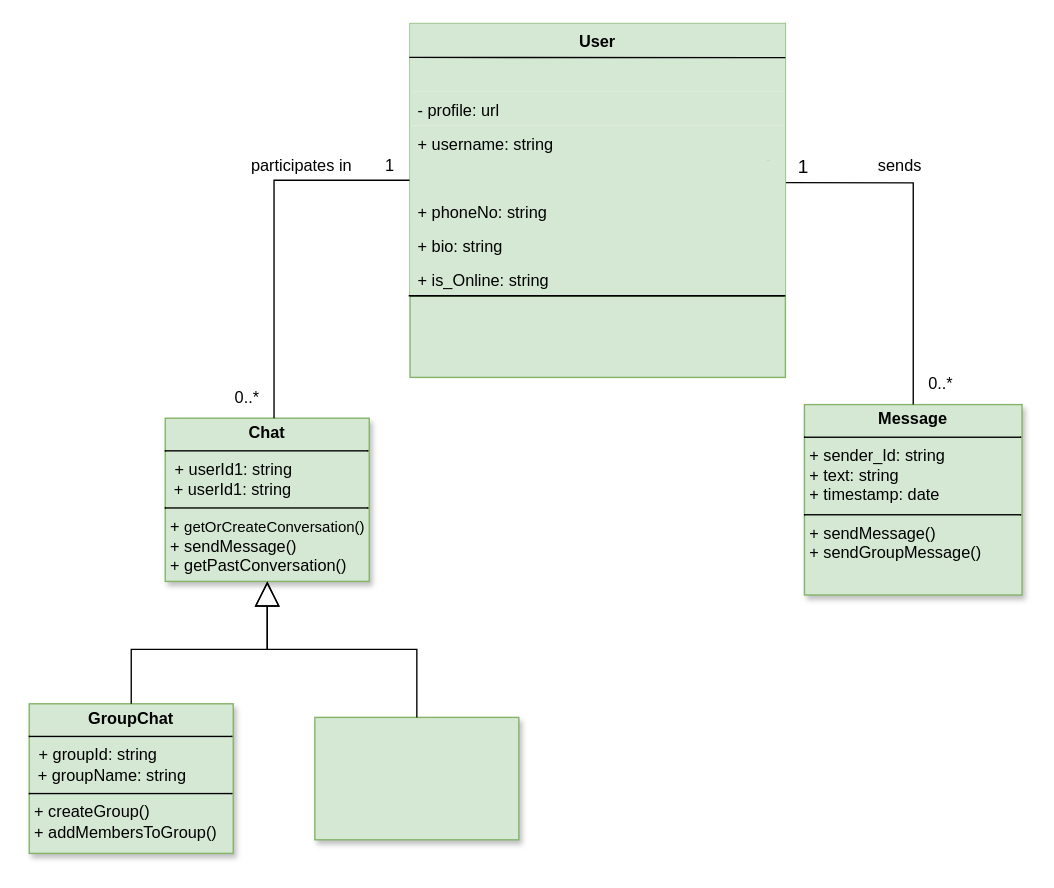
Some shapes in this 1054 by 888 pixel diagram are drawn without their labels. The centre of each missing label's shape, as x and y in pixels:
"+ email: string" belongs at point 597,176.
"+ signUp() + login() + logout()" belongs at point 597,335.
"+ userId: string" belongs at point 597,74.
"IndividualChat + userId1: string + userId2: string" belongs at point 417,780.
